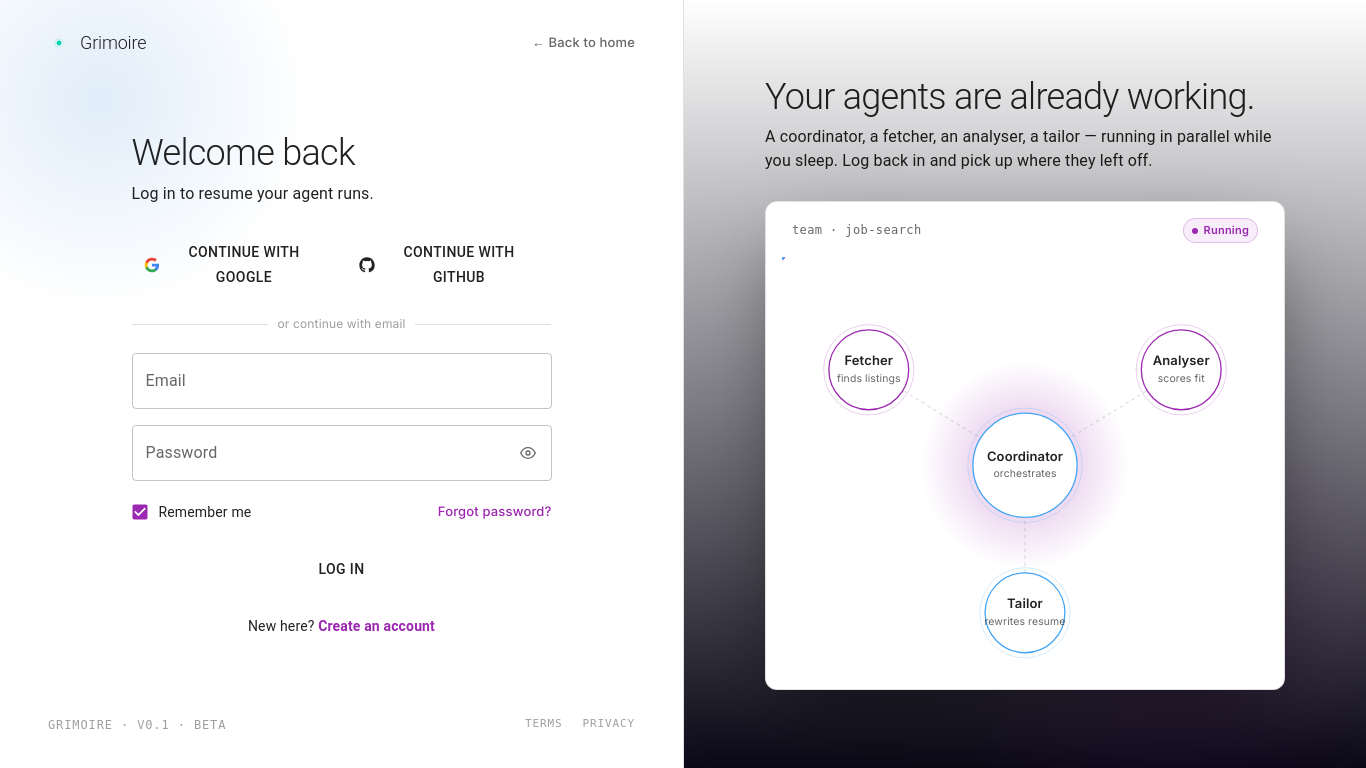
Test: LoginForm › shows validation error when email is empty
Click the button "Log in": click(342, 569) [132,551,552,588]
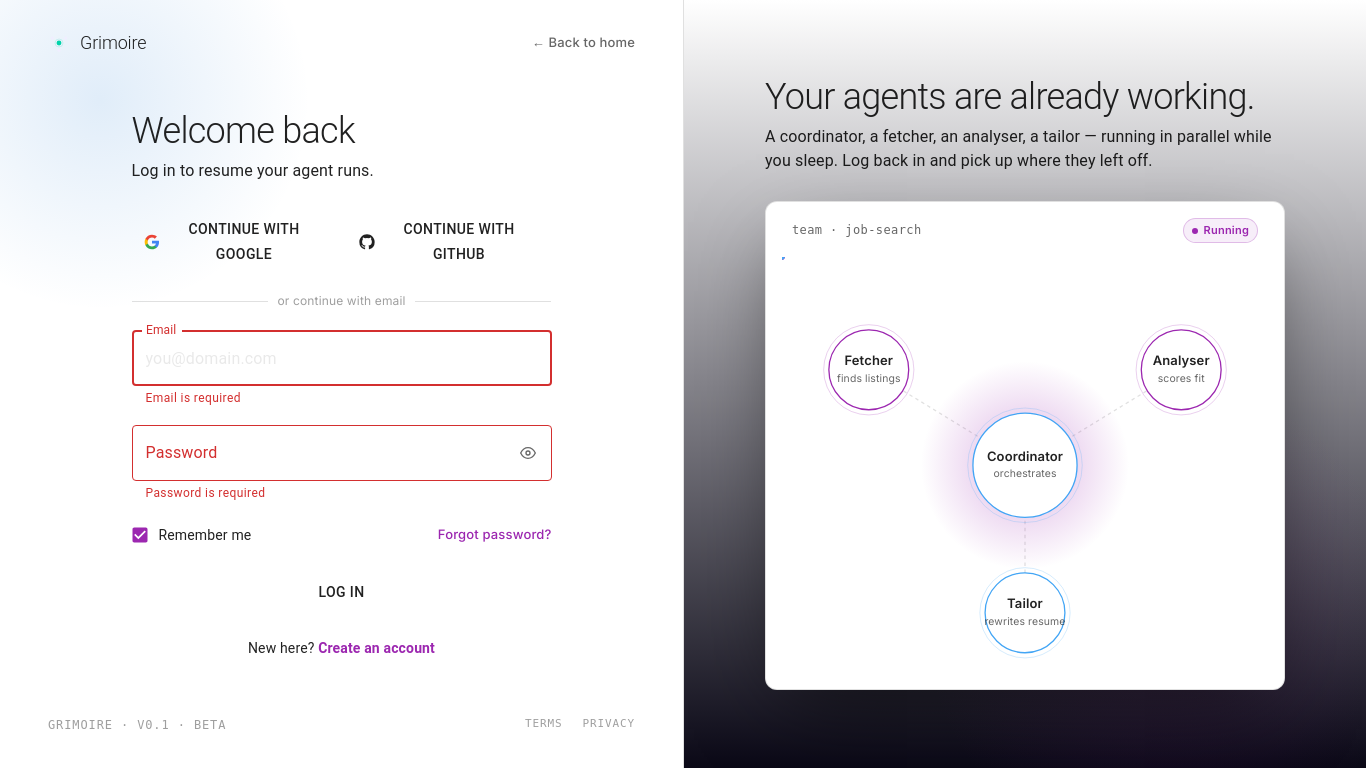
Check: the text "Email is required" is shown, box [146,391,241,405]
